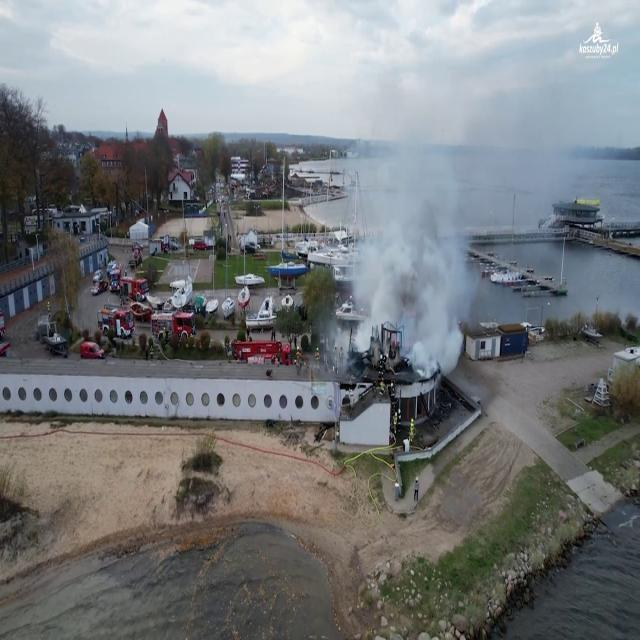Smoke: (337, 54, 481, 380)
